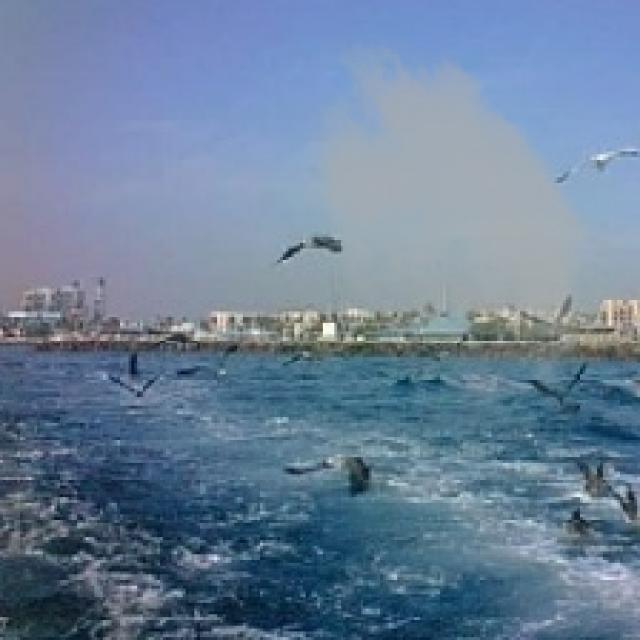Smoke: (282, 28, 628, 443)
